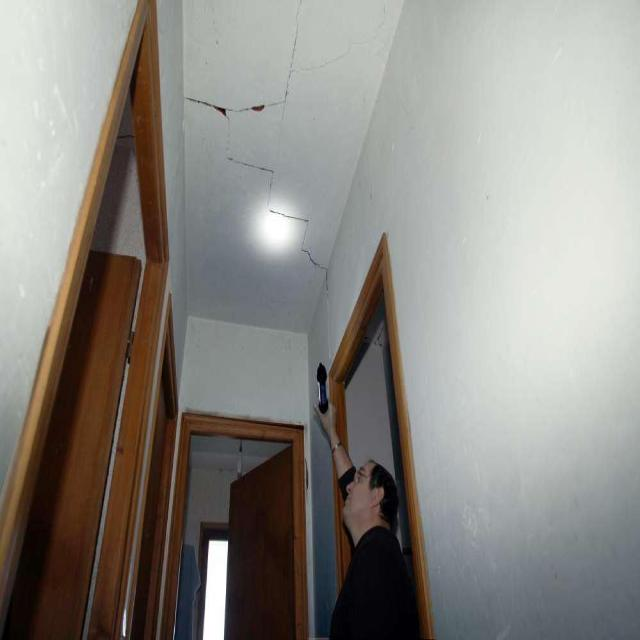crack: (185, 95, 329, 293), (284, 61, 333, 99), (290, 1, 301, 66)
